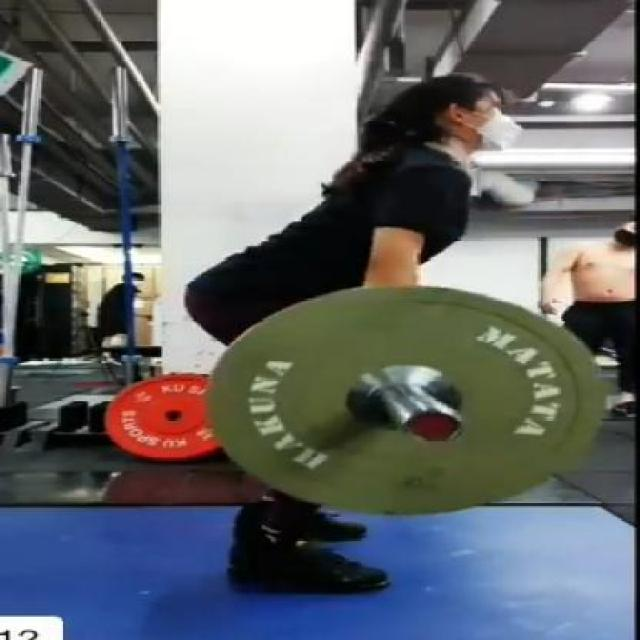barbell: (198, 279, 616, 523)
